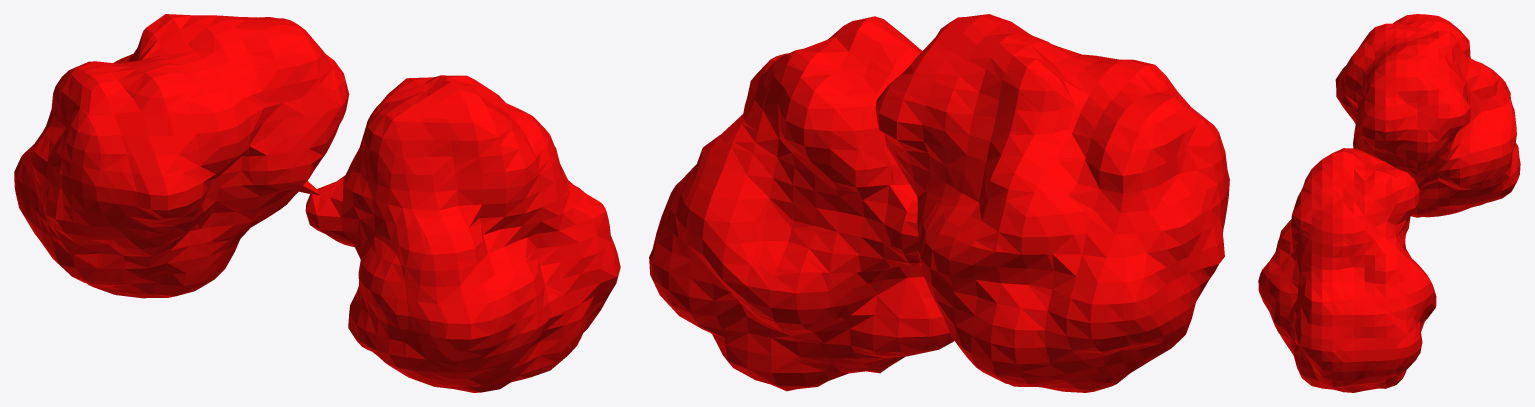
File: dkgA_coarse.dae
3 renders of one model, left to right at view 1: azimuth 30°, elevation 25°; view 2: azimuth 150°, elevation 25°; view 3: azimuth 270°, elevation 25°, orthographic. The views are drawn at different scales.
Visible parts, largest first — view 1: dkgA; view 2: dkgA; view 3: dkgA.
Part boxes in pixels (bbox=[...]): dkgA: bbox=[14, 14, 620, 392]; dkgA: bbox=[649, 14, 1229, 392]; dkgA: bbox=[1258, 14, 1520, 392].
Bounding box in the file's own units: 101 × 71.87 × 63.23.
